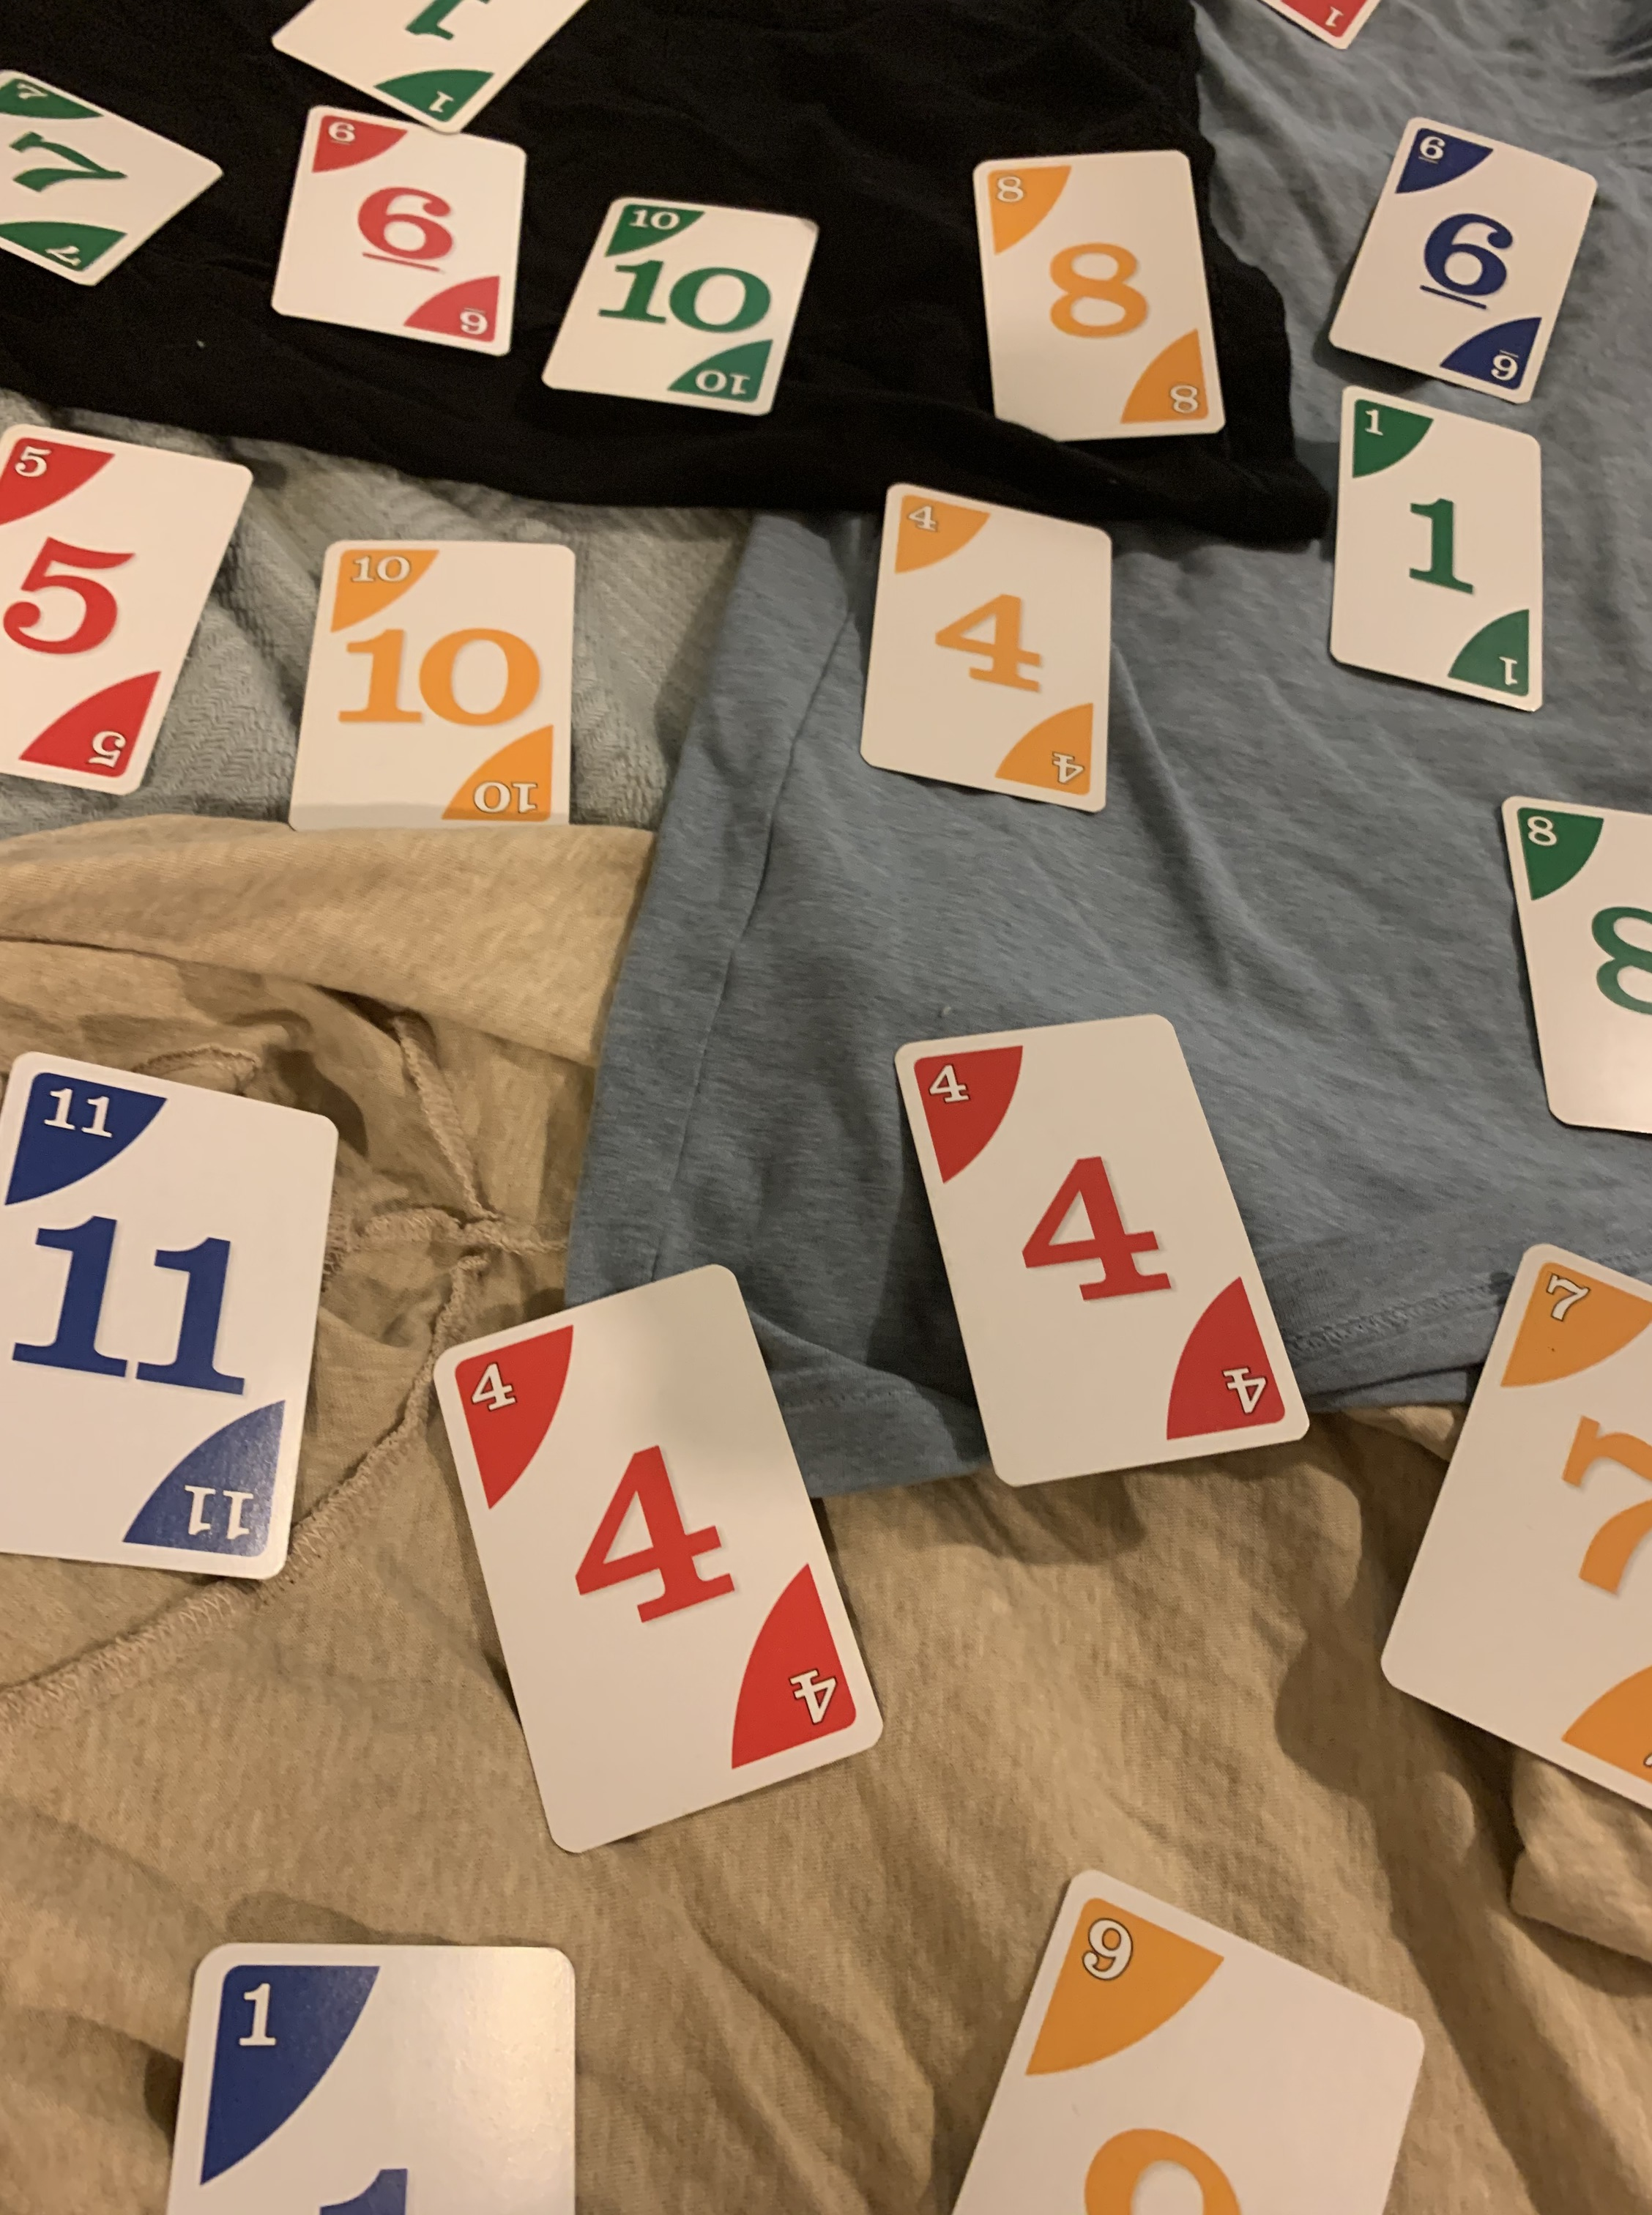eleven: (0, 1031, 354, 1597)
five: (0, 417, 262, 802)
four: (425, 1255, 897, 1868), (888, 1000, 1324, 1491), (850, 486, 1133, 812)
one: (1314, 377, 1562, 720)
seven: (0, 66, 234, 307)
six: (1312, 118, 1614, 399), (252, 106, 534, 356)
ten: (285, 528, 587, 845), (540, 177, 826, 425)
